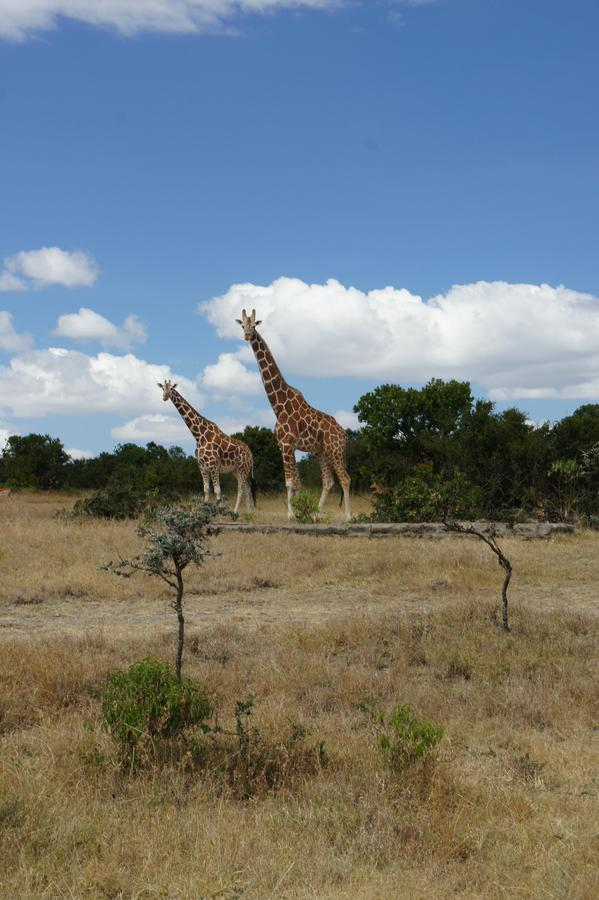giraffe: (156, 377, 257, 489), (270, 382, 350, 476)
